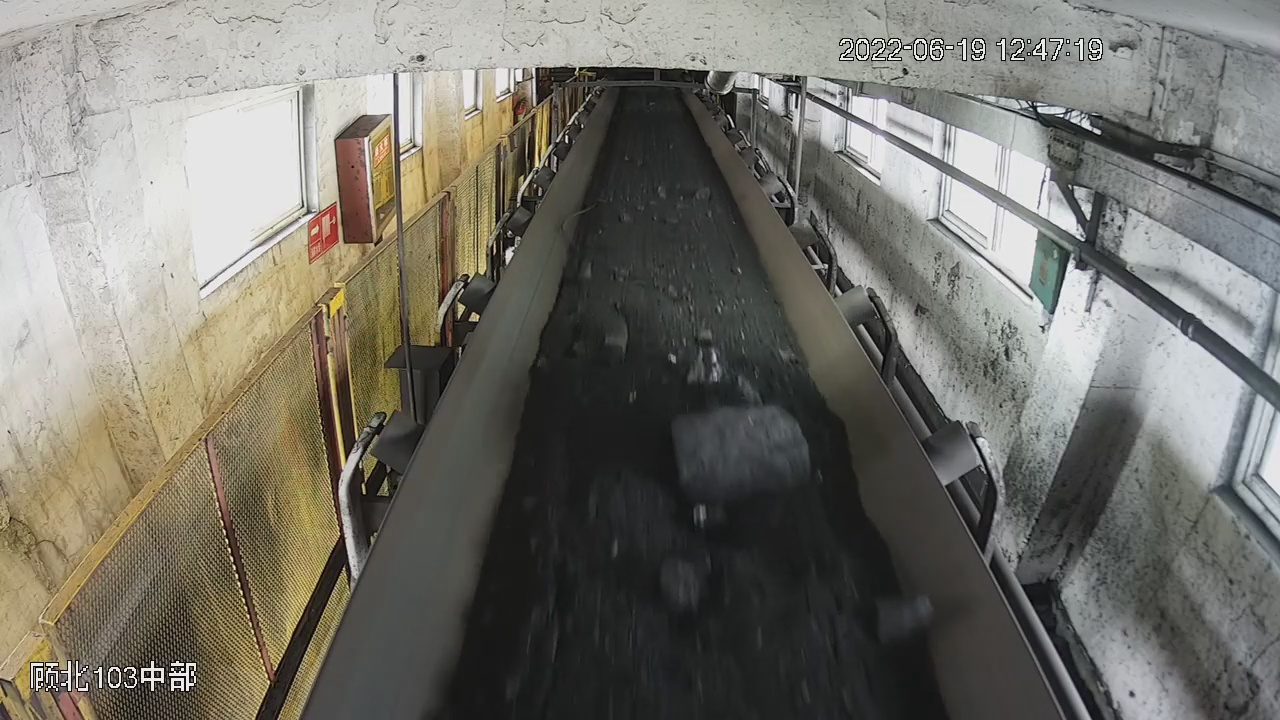gangue: (668, 404, 808, 501), (574, 294, 624, 366), (879, 594, 939, 650), (673, 345, 741, 390), (659, 557, 698, 610), (693, 188, 711, 202)
